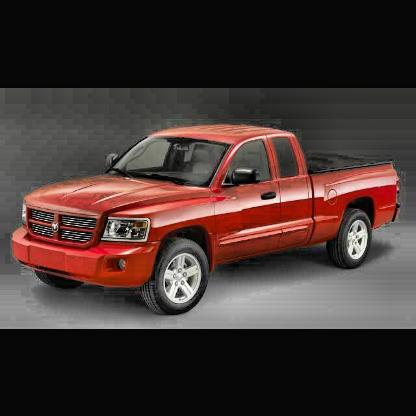Dodge Dakota Club Cab 2007: (14, 124, 401, 315)
